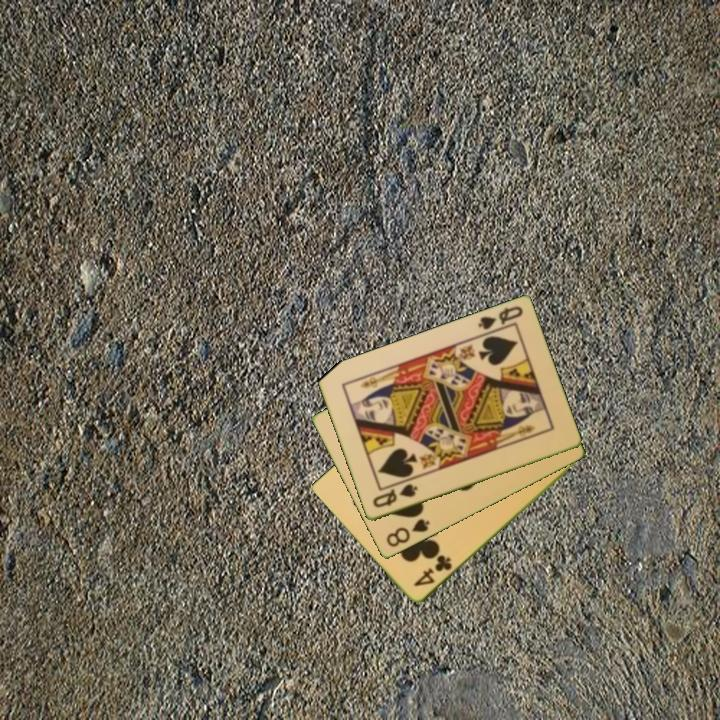4c: (410, 552, 455, 590)
8s: (382, 515, 432, 550)
Qs: (474, 303, 526, 333), (369, 481, 420, 511)
